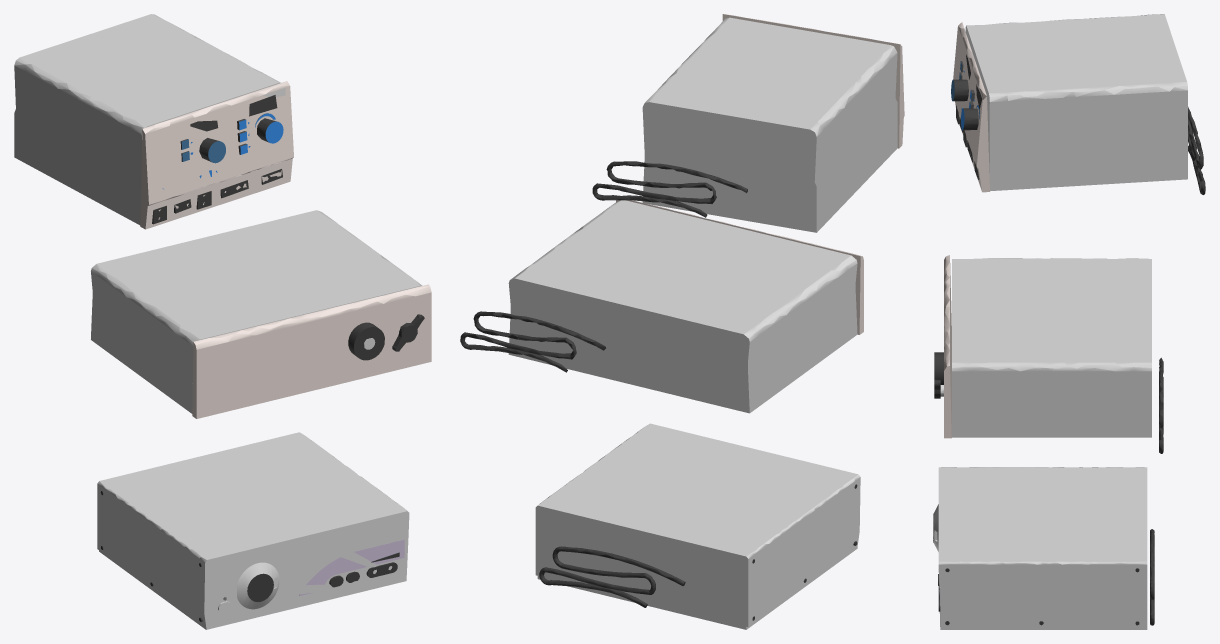
3 views of the same model, side by side, from view 1: azimuth 30°, elevation 25°; view 2: azimuth 150°, elevation 25°; view 3: azimuth 270°, elevation 25° (orthographic). The views are drawn at different scales.
Visible parts, largest first — view 1: w_Medical_Equipment___SurgeryRoom_Psymograph_w_Medical_Equip, w_Medical_Equipment___ElectroSurgical_Generator_ESU_w_Medica, w_Medical_Equipment___Olympus_Xenon_Light_Source_ControlBox_; view 2: w_Medical_Equipment___SurgeryRoom_Psymograph_w_Medical_Equip, w_Medical_Equipment___Olympus_Xenon_Light_Source_ControlBox_, w_Medical_Equipment___ElectroSurgical_Generator_ESU_w_Medica; view 3: w_Medical_Equipment___SurgeryRoom_Psymograph_w_Medical_Equip, w_Medical_Equipment___ElectroSurgical_Generator_ESU_w_Medica, w_Medical_Equipment___Olympus_Xenon_Light_Source_ControlBox_.
Part boxes in pixels (x1=…): w_Medical_Equipment___SurgeryRoom_Psymograph_w_Medical_Equip: x1=91, y1=210, x2=431, y2=418; w_Medical_Equipment___ElectroSurgical_Generator_ESU_w_Medica: x1=14, y1=14, x2=293, y2=229; w_Medical_Equipment___Olympus_Xenon_Light_Source_ControlBox_: x1=97, y1=432, x2=409, y2=629; w_Medical_Equipment___SurgeryRoom_Psymograph_w_Medical_Equip: x1=460, y1=200, x2=863, y2=413; w_Medical_Equipment___Olympus_Xenon_Light_Source_ControlBox_: x1=535, y1=423, x2=860, y2=629; w_Medical_Equipment___ElectroSurgical_Generator_ESU_w_Medica: x1=592, y1=14, x2=904, y2=232; w_Medical_Equipment___SurgeryRoom_Psymograph_w_Medical_Equip: x1=934, y1=255, x2=1163, y2=453; w_Medical_Equipment___ElectroSurgical_Generator_ESU_w_Medica: x1=951, y1=14, x2=1205, y2=194; w_Medical_Equipment___Olympus_Xenon_Light_Source_ControlBox_: x1=933, y1=467, x2=1154, y2=629.
Bounding box in the file's own units: 55.12 × 77.63 × 39.16.
